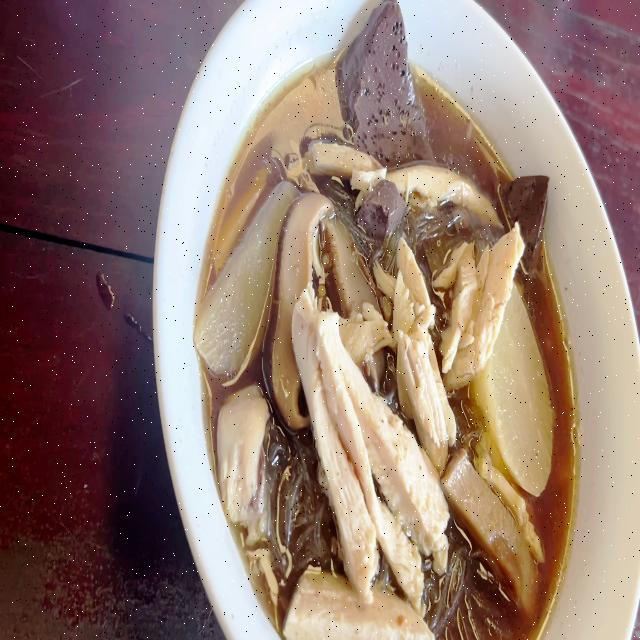boiled_chicken_blood_jelly: (335, 0, 431, 161), (506, 162, 550, 255), (366, 182, 398, 230)
chicken_shredded: (300, 296, 440, 579), (387, 242, 452, 446), (448, 230, 523, 375), (295, 566, 426, 640), (218, 393, 276, 532), (391, 160, 509, 224), (307, 135, 383, 186)
daikon_radish: (200, 184, 286, 379), (494, 319, 551, 484)
noodle: (203, 47, 574, 640)
